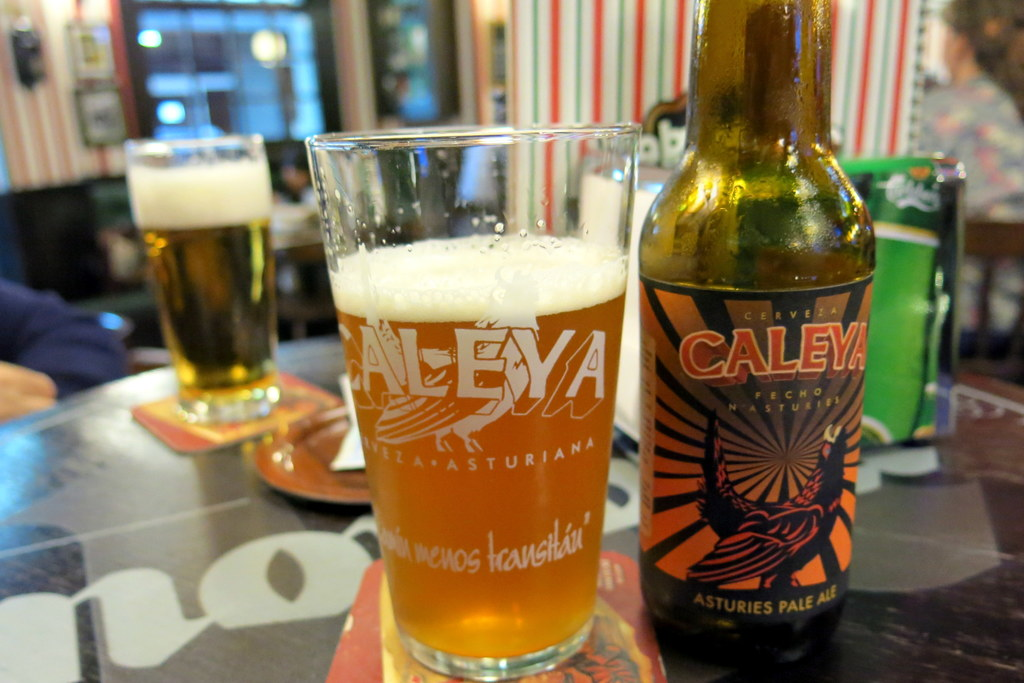Beer: (637, 0, 874, 665), (331, 229, 626, 658), (124, 160, 272, 391)
